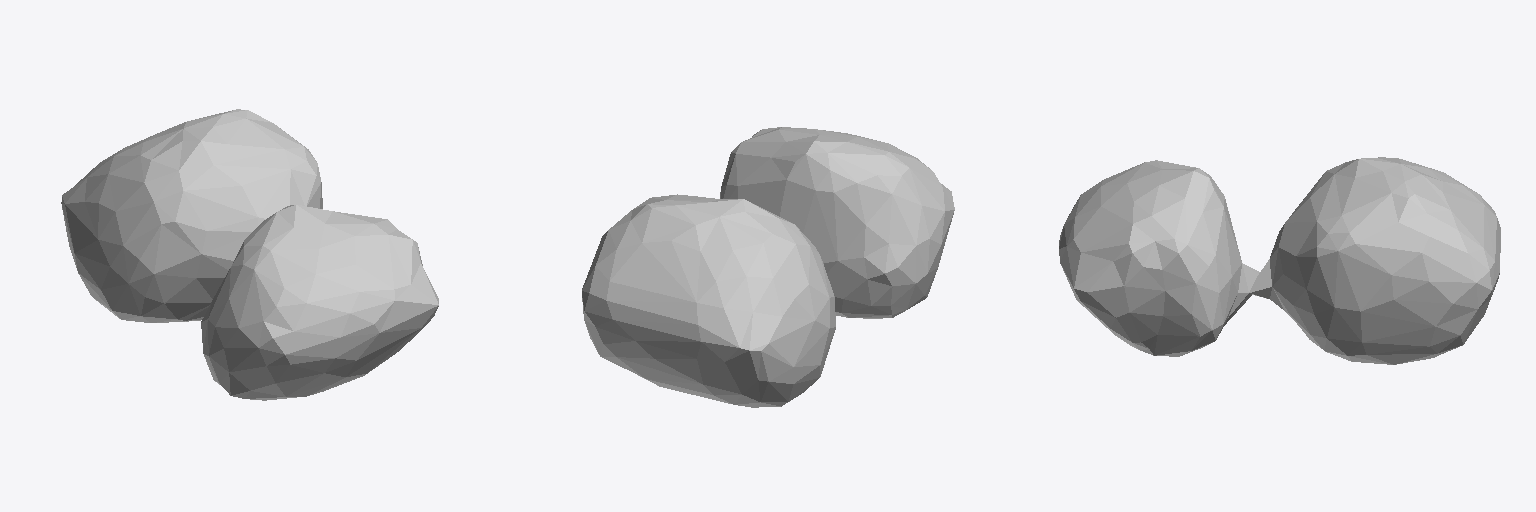
File: MammillaryBodies.obj
The picture shows the model from 3 angles: view 1: azimuth 30°, elevation 25°; view 2: azimuth 150°, elevation 25°; view 3: azimuth 270°, elevation 25°; orthographic projection.
Visible parts, largest first — view 1: Mamillary-bodies_mamillary-bodies.001; view 2: Mamillary-bodies_mamillary-bodies.001; view 3: Mamillary-bodies_mamillary-bodies.001.
Boxes of the visible parts, <box> form: Mamillary-bodies_mamillary-bodies.001: <box>61,109,438,400</box>; Mamillary-bodies_mamillary-bodies.001: <box>582,127,954,407</box>; Mamillary-bodies_mamillary-bodies.001: <box>1059,157,1500,364</box>.
Size of the model in its own units: 7.7 by 6.36 by 14.2.